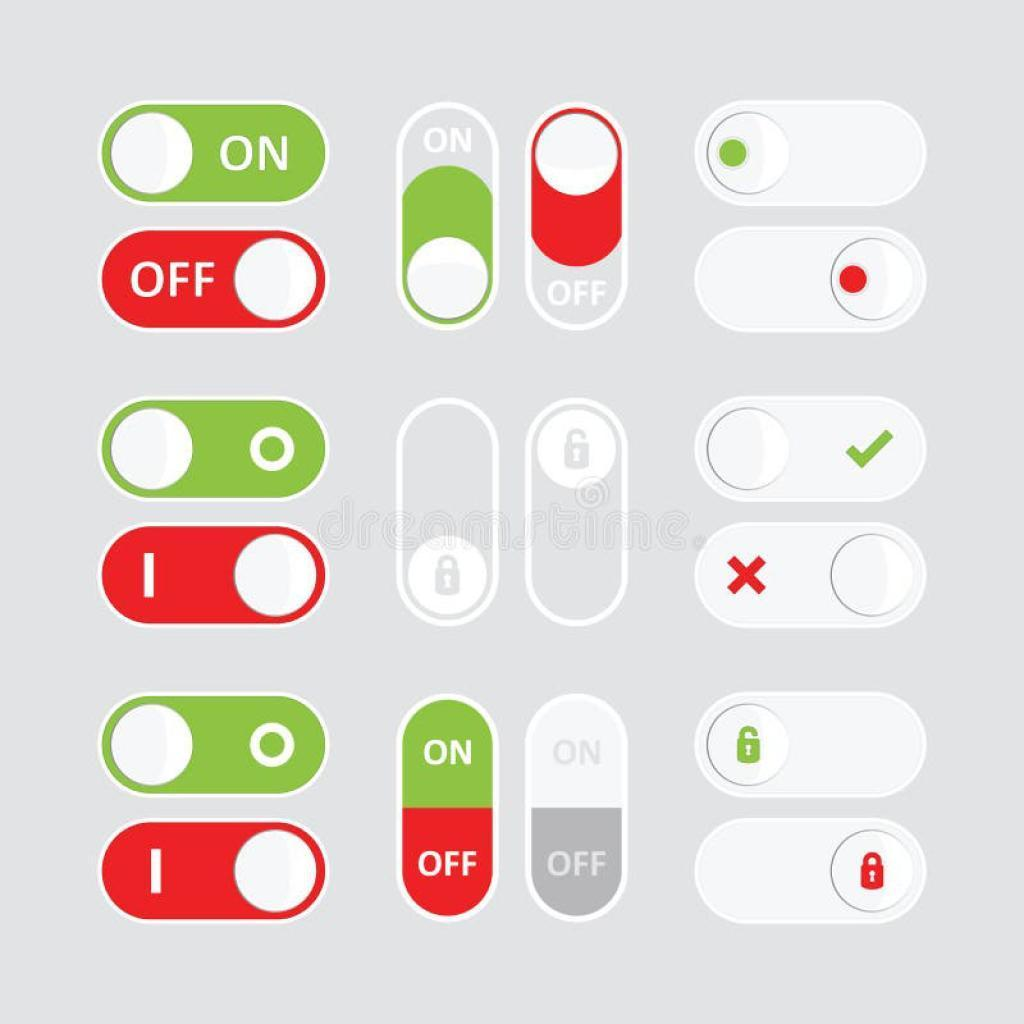switch: (695, 678, 937, 807), (697, 388, 934, 515), (97, 516, 335, 638), (687, 221, 931, 340), (681, 522, 934, 635), (697, 87, 930, 208), (697, 814, 929, 935), (388, 396, 502, 633), (95, 394, 333, 503), (388, 691, 501, 920), (522, 396, 633, 628), (104, 819, 335, 930), (396, 100, 506, 333), (100, 689, 332, 799), (529, 102, 636, 336), (528, 691, 627, 930), (100, 104, 332, 205), (103, 230, 327, 334)
